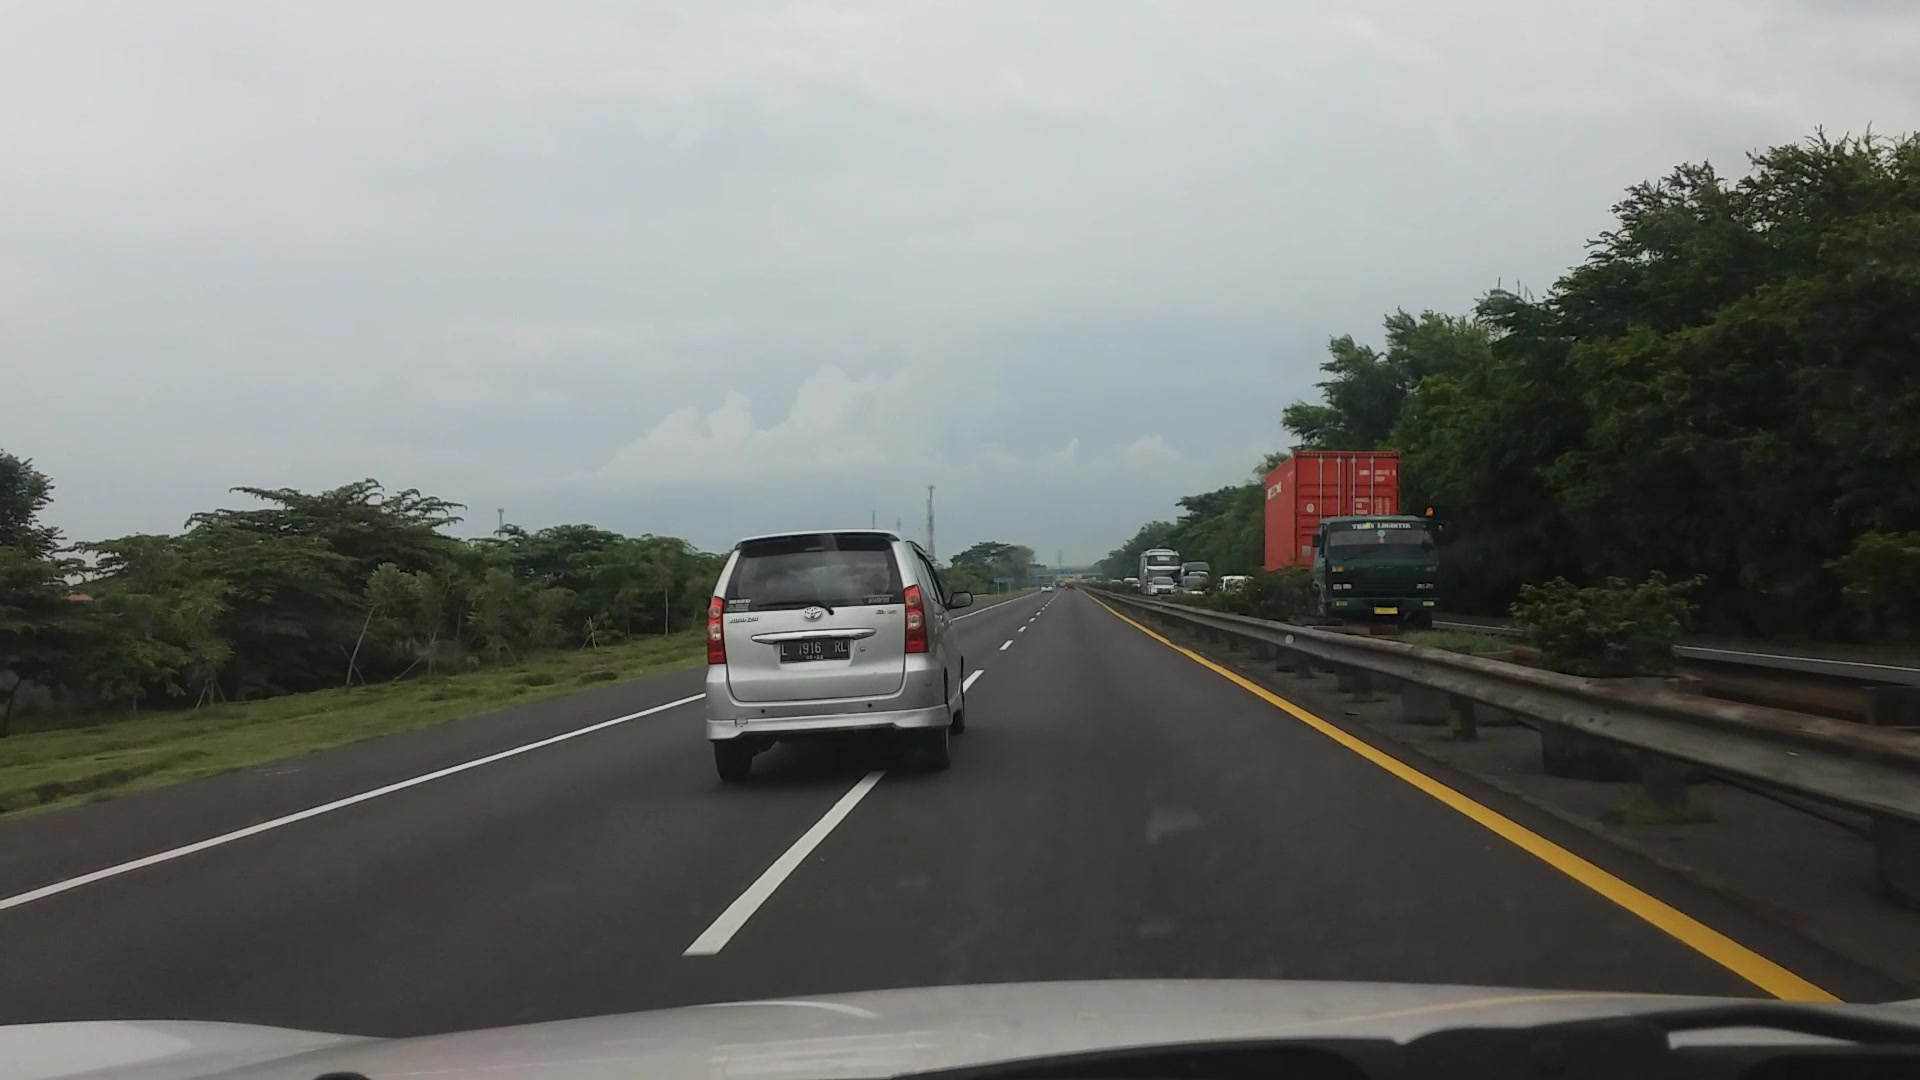plate_positive: (781, 637, 849, 663)
